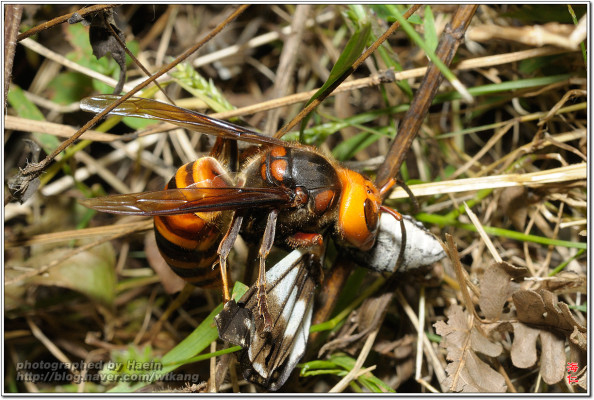asian_giant_hornet: (151, 135, 403, 289)
